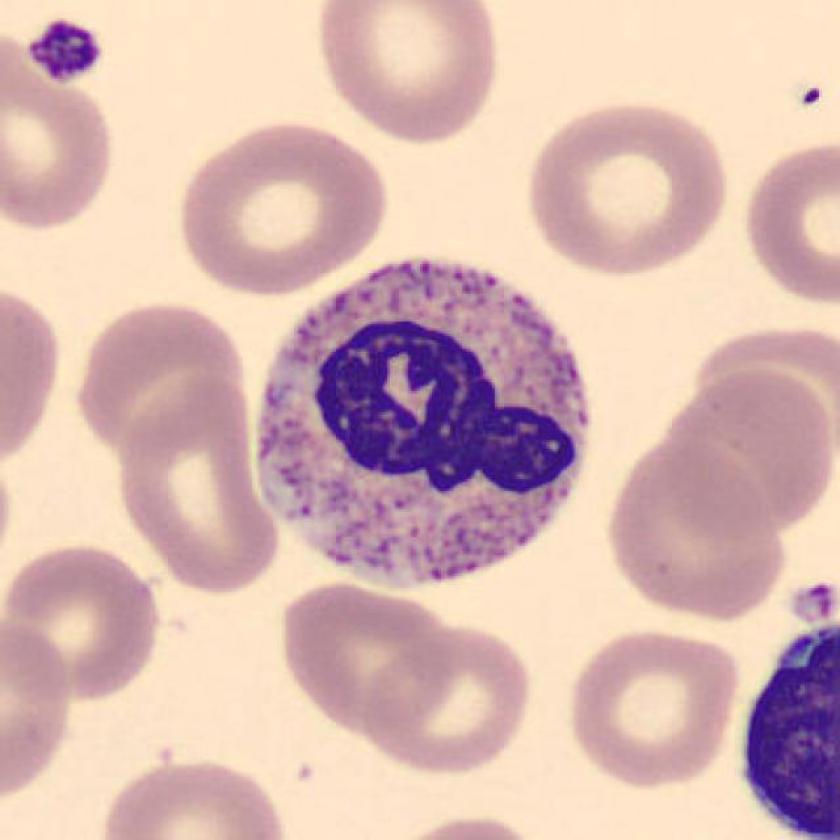neutrophil: (258, 261, 594, 585)
